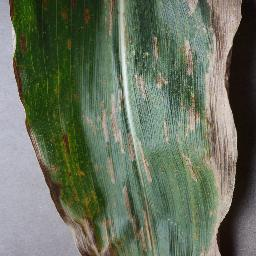Gray_Leaf_Spot: (144, 0, 246, 256), (97, 0, 147, 256), (47, 131, 97, 256), (19, 94, 46, 187), (7, 1, 29, 93), (83, 6, 92, 26), (64, 35, 74, 51), (60, 9, 68, 21)
